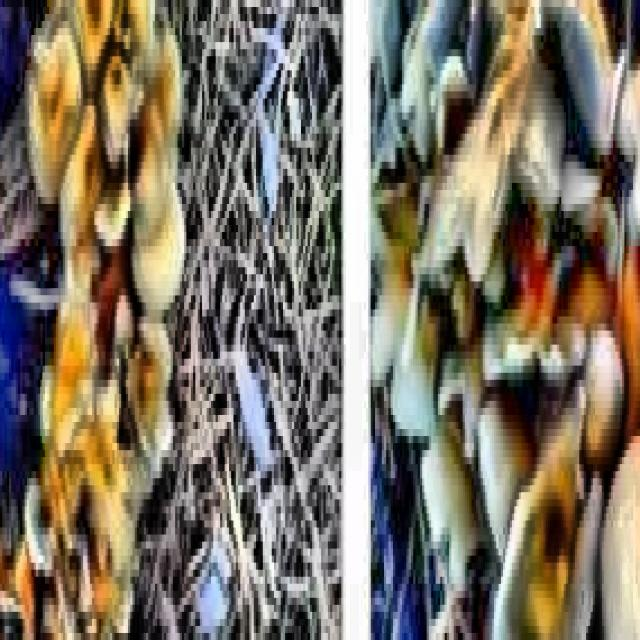Affected: (27, 0, 173, 232), (563, 337, 640, 640)
